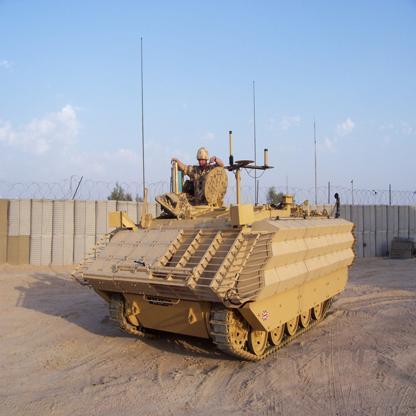Tank: (64, 132, 377, 375)
